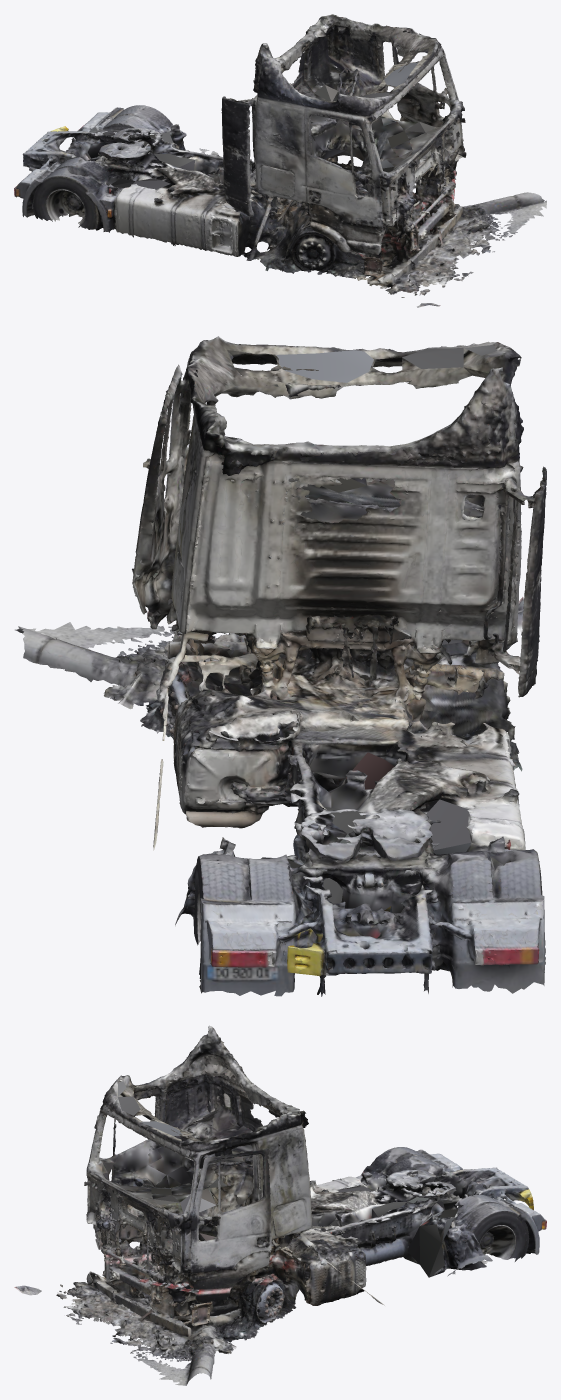
3 renders of one model, top to bottom at view 1: azimuth 30°, elevation 25°; view 2: azimuth 150°, elevation 25°; view 3: azimuth 270°, elevation 25°, orthographic. The views are drawn at different scales.
Parts seen in each view (by area): view 1: Object_3, Object_4, Object_2, Object_5, Object_6; view 2: Object_3, Object_2, Object_5, Object_6, Object_4; view 3: Object_4, Object_3, Object_2, Object_5, Object_6.
Part boxes in pixels (x1=…): Object_3: x1=14, y1=53, x2=460, y2=260; Object_4: x1=15, y1=91, x2=475, y2=307; Object_2: x1=179, y1=38, x2=546, y2=265; Object_5: x1=253, y1=14, x2=444, y2=274; Object_6: x1=181, y1=29, x2=446, y2=280; Object_3: x1=281, y1=444, x2=546, y2=993; Object_2: x1=15, y1=379, x2=539, y2=791; Object_5: x1=110, y1=336, x2=523, y2=850; Object_6: x1=132, y1=337, x2=546, y2=771; Object_4: x1=102, y1=445, x2=538, y2=996; Object_4: x1=14, y1=1084, x2=546, y2=1354; Object_3: x1=84, y1=1080, x2=531, y2=1328; Object_2: x1=110, y1=1142, x2=365, y2=1385; Object_5: x1=102, y1=1039, x2=384, y2=1351; Object_6: x1=100, y1=1025, x2=311, y2=1305.
Bounding box in the file's own units: 5.13 × 2.77 × 5.63.
Materials: 1 (1 with a texture image).
